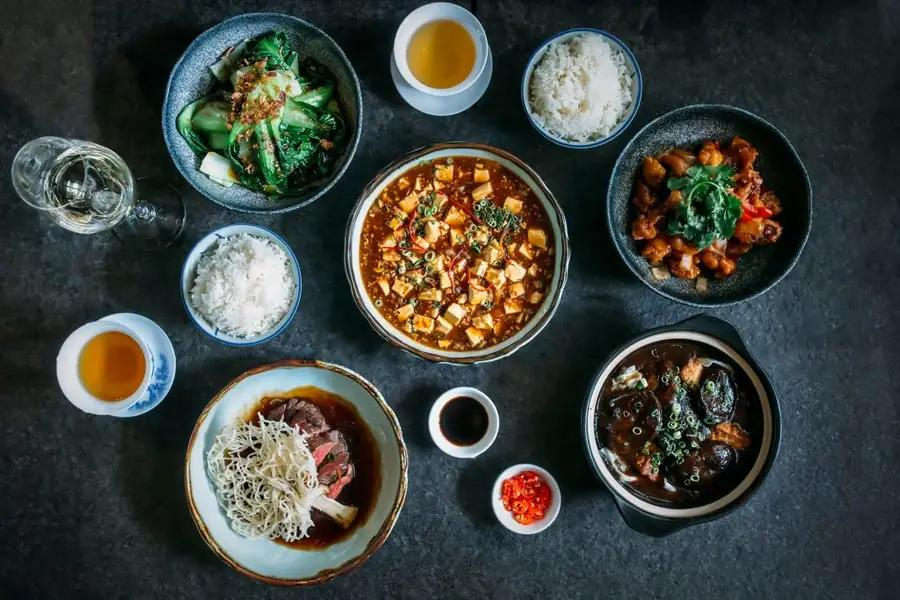Braised Crucian Carp: (183, 358, 405, 587), (343, 142, 562, 362), (580, 316, 780, 535), (606, 106, 812, 308), (161, 12, 359, 215)
